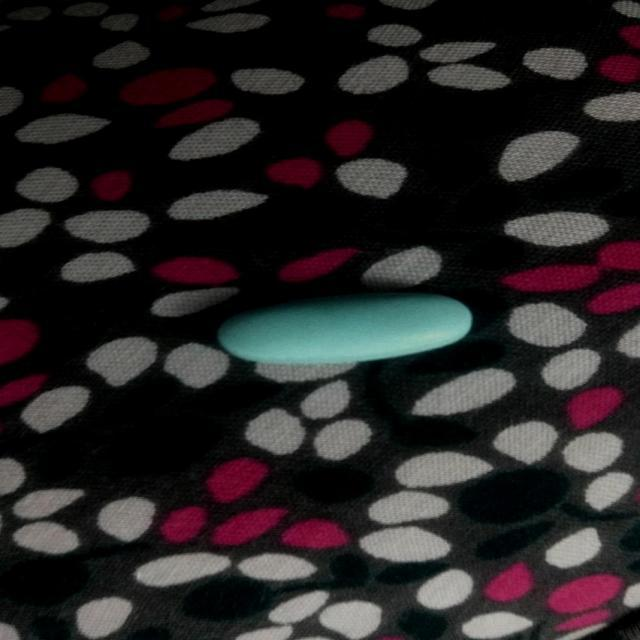pill: (212, 289, 470, 364)
